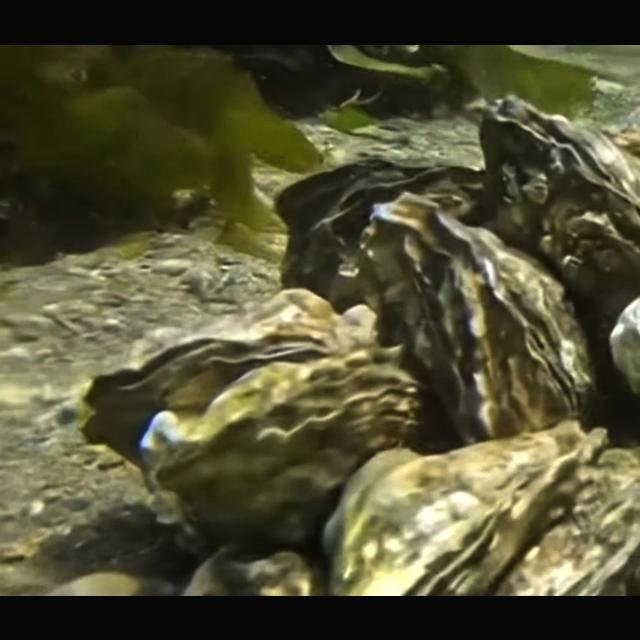Oyster-Closed: (369, 190, 593, 440), (140, 342, 420, 538), (496, 446, 640, 596)
Oyster-Open: (322, 418, 610, 594), (80, 329, 334, 491), (472, 94, 640, 312), (274, 156, 488, 310)
